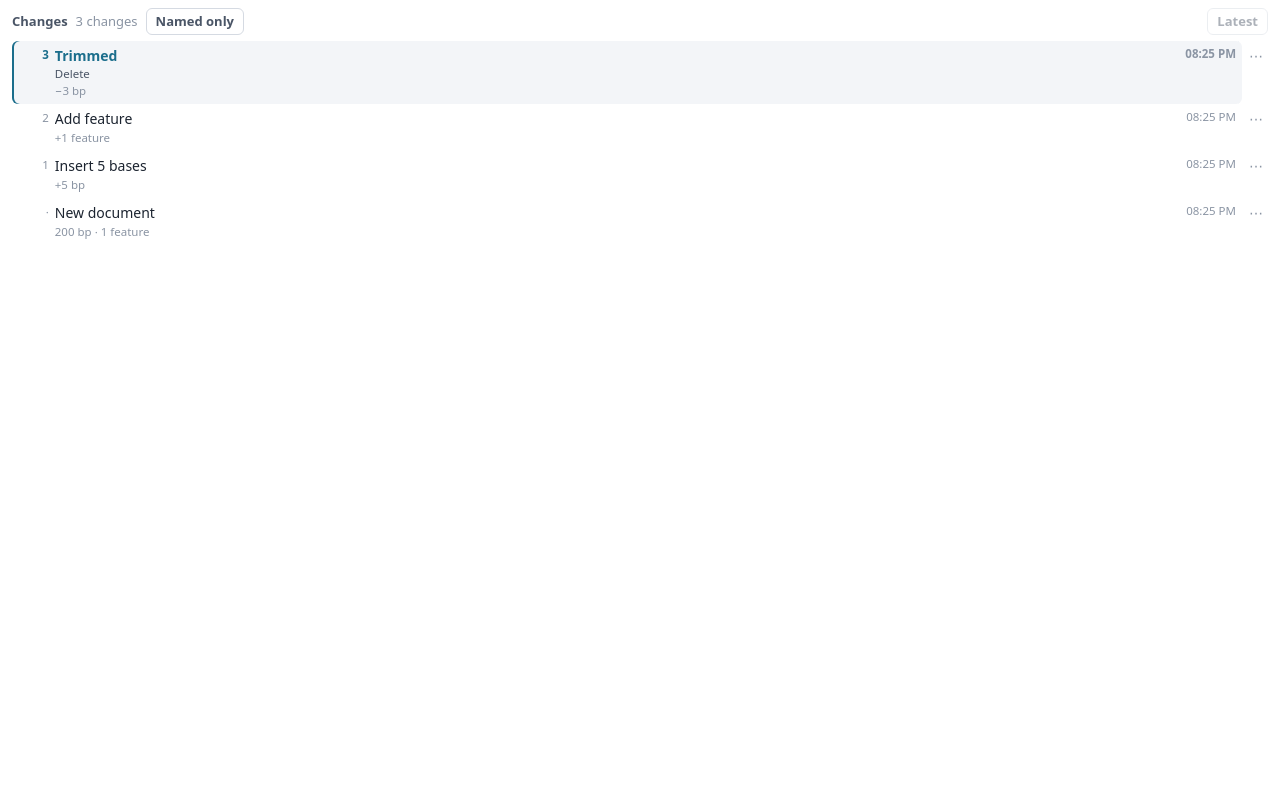
HistoryPanel: what a step changed (#4) › names the step by its name when it has one
What coordinates should you click on to do the following:
click the 1st button "⋯"
I would click on:
 (1256, 56)
Its box is x1=1244 y1=44 x2=1268 y2=68.
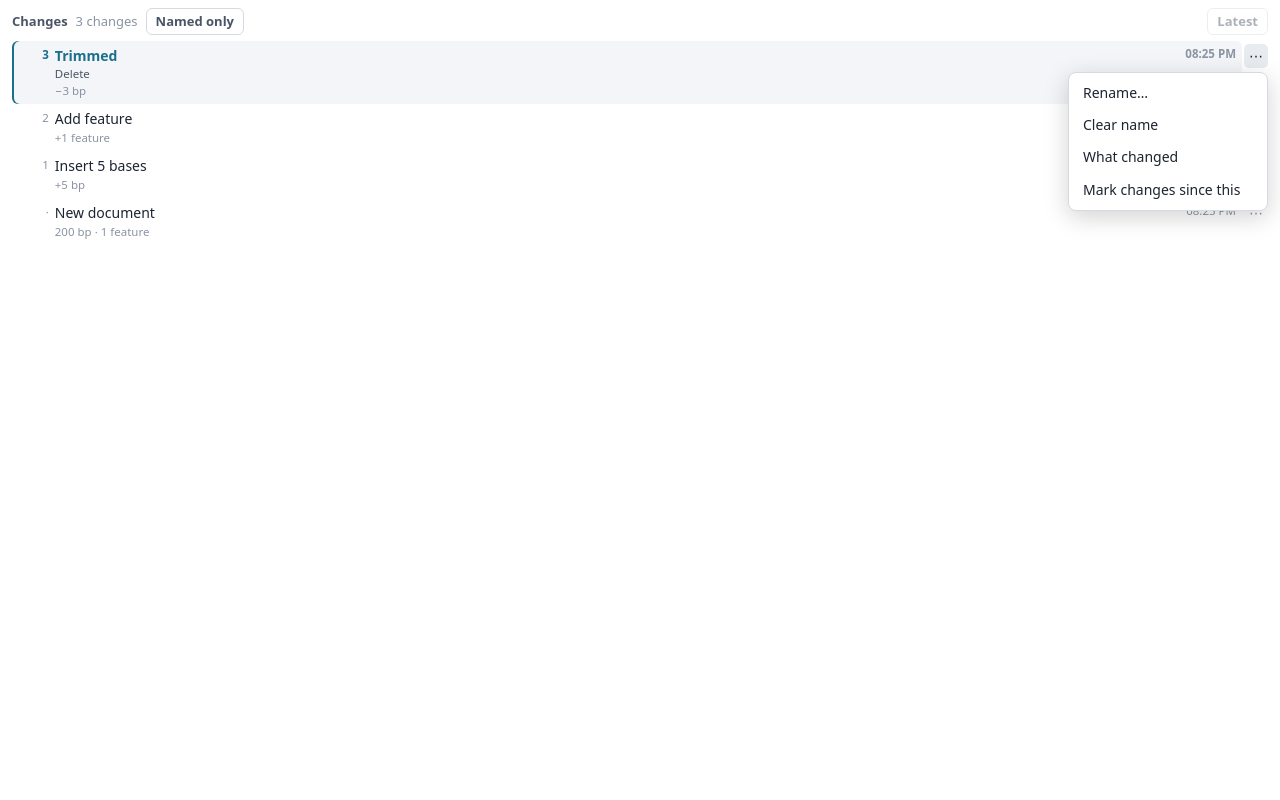
What coordinates should you click on to do the following:
click the menu item "What changed"
I would click on:
 (1168, 158)
Its box is x1=1073 y1=141 x2=1263 y2=174.
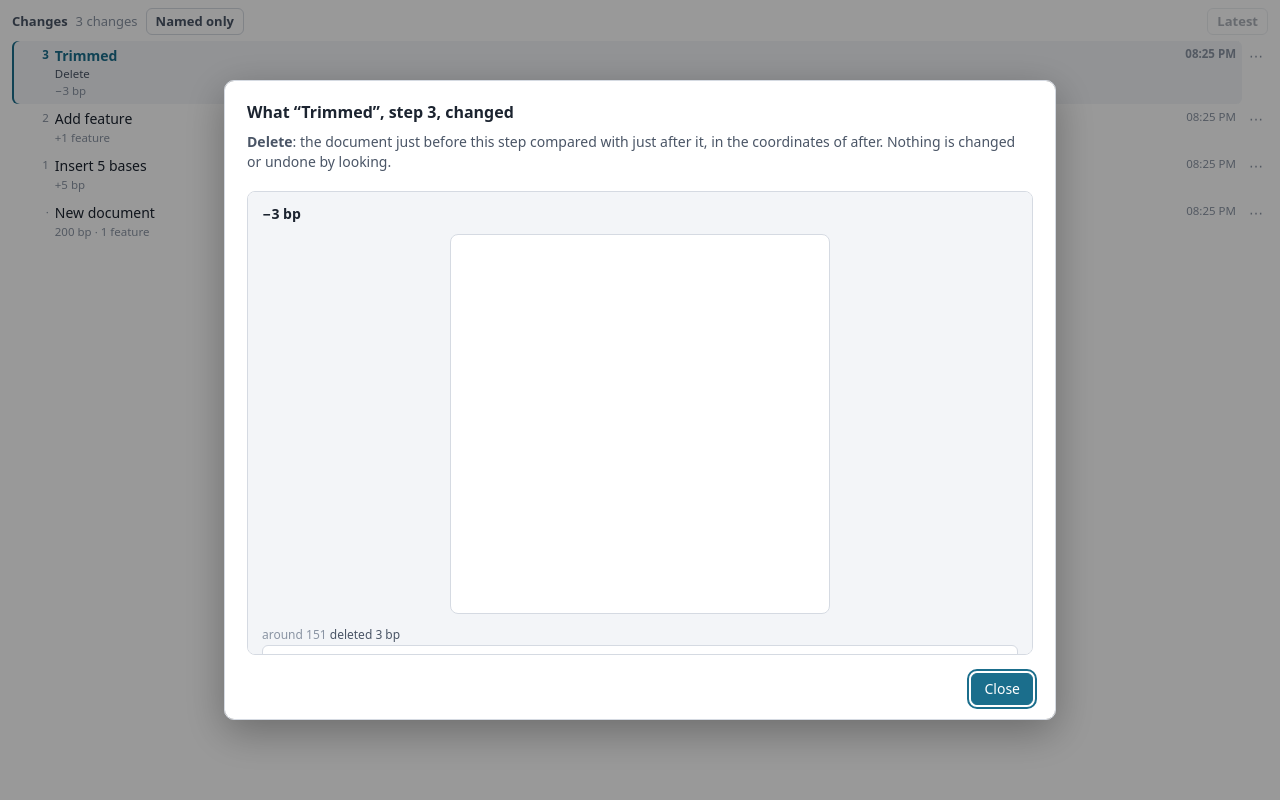
Expected: the heading reads "What “Trimmed”, step 3, changed", x1=247 y1=101 x2=514 y2=123
Expected: the text with class "save-review__summary" reads "−3 bp", x1=262 y1=204 x2=301 y2=223
